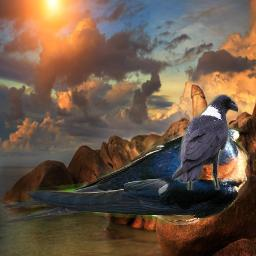Crow: (172, 94, 238, 190)
Swallow: (0, 125, 250, 225)
